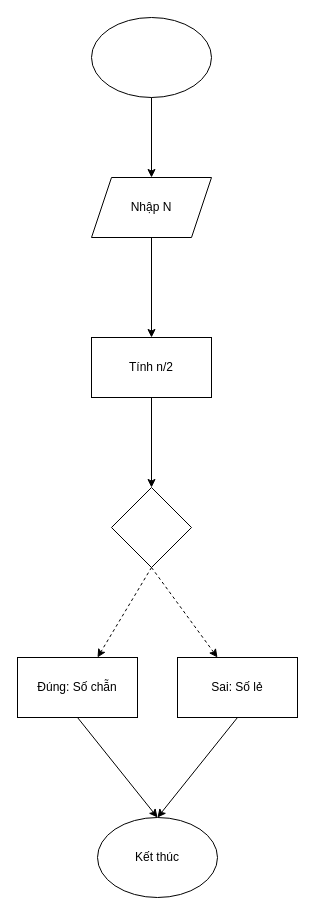
Image size: 315x915. Some labels were removed from this diagram. Each missing label, with the centre of its shape:
"Bắt Đầu" goes at pixel 151 57.
"n%2==0" goes at pixel 151 527.
